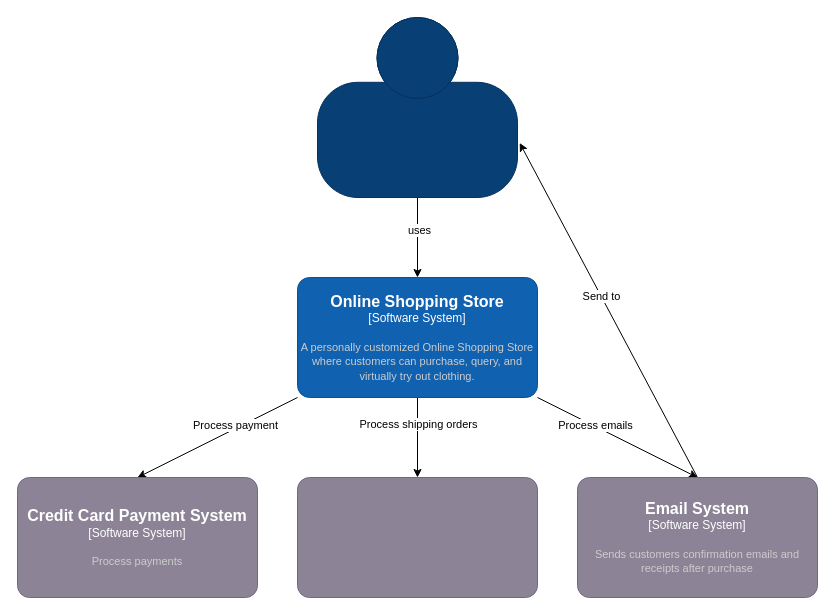
Some shapes in this 835 by 615 pixel diagram are drawn without their labels. Each missing label, with the centre of its shape:
"Customer [User] End User" goes at point (417, 107).
"Delivery System [Software System] Process shipping and handling" goes at point (417, 537).
